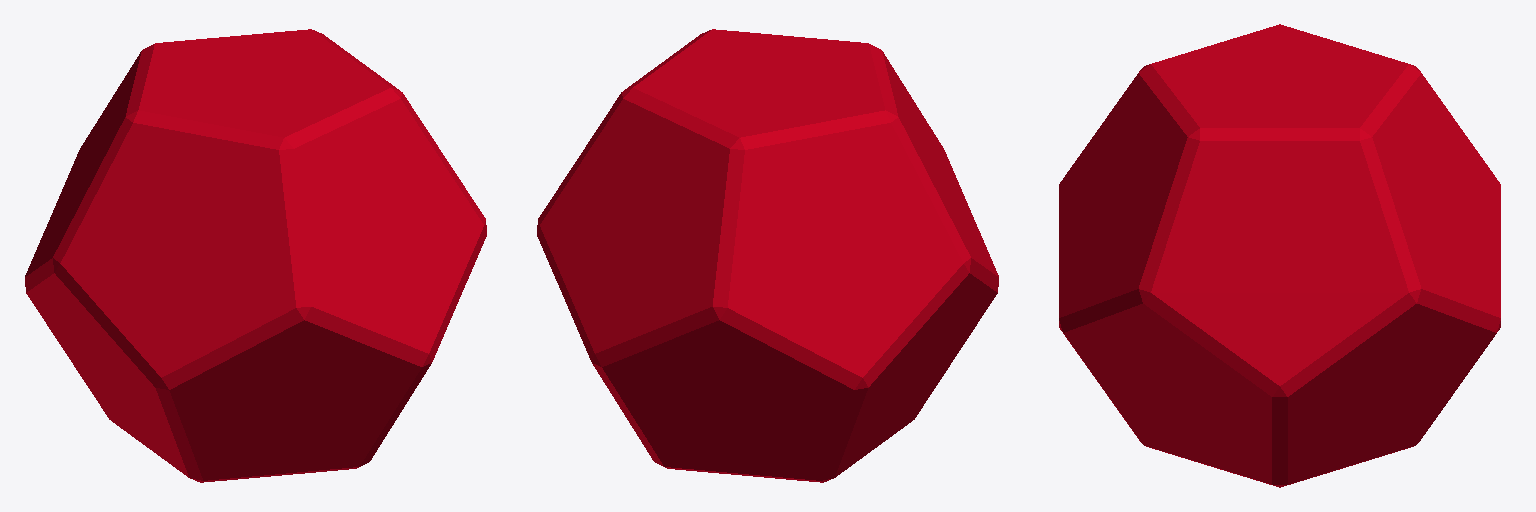
The model's file is gem.obj.
3 renders of one model, left to right at view 1: azimuth 30°, elevation 25°; view 2: azimuth 150°, elevation 25°; view 3: azimuth 270°, elevation 25°, orthographic.
Parts seen in each view (by area): view 1: Icosphere; view 2: Icosphere; view 3: Icosphere.
Boxes of the visible parts, x1,y1,x2,y2 form: Icosphere: [25, 29, 486, 482]; Icosphere: [537, 29, 998, 482]; Icosphere: [1059, 24, 1500, 487].
Bounding box in the file's own units: 0.7862 × 0.6497 × 0.7477.